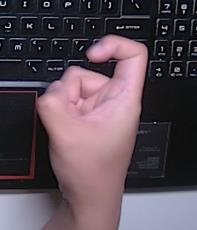anticlockwise: (34, 31, 152, 200)
